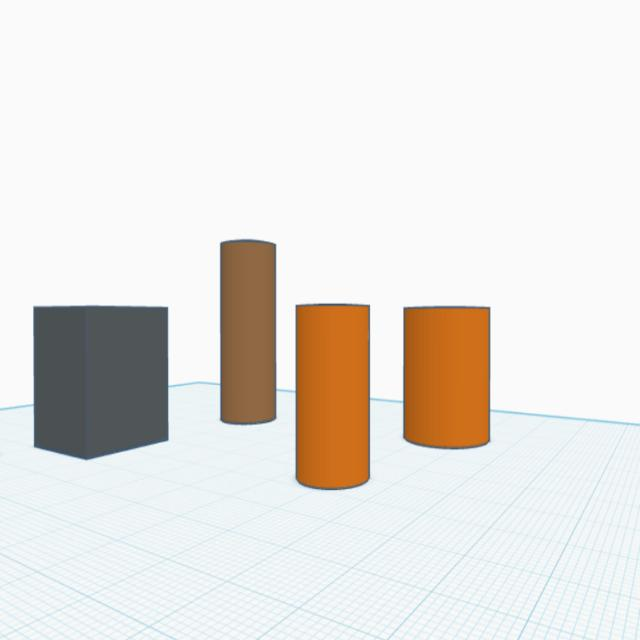cube: (29, 295, 172, 465)
